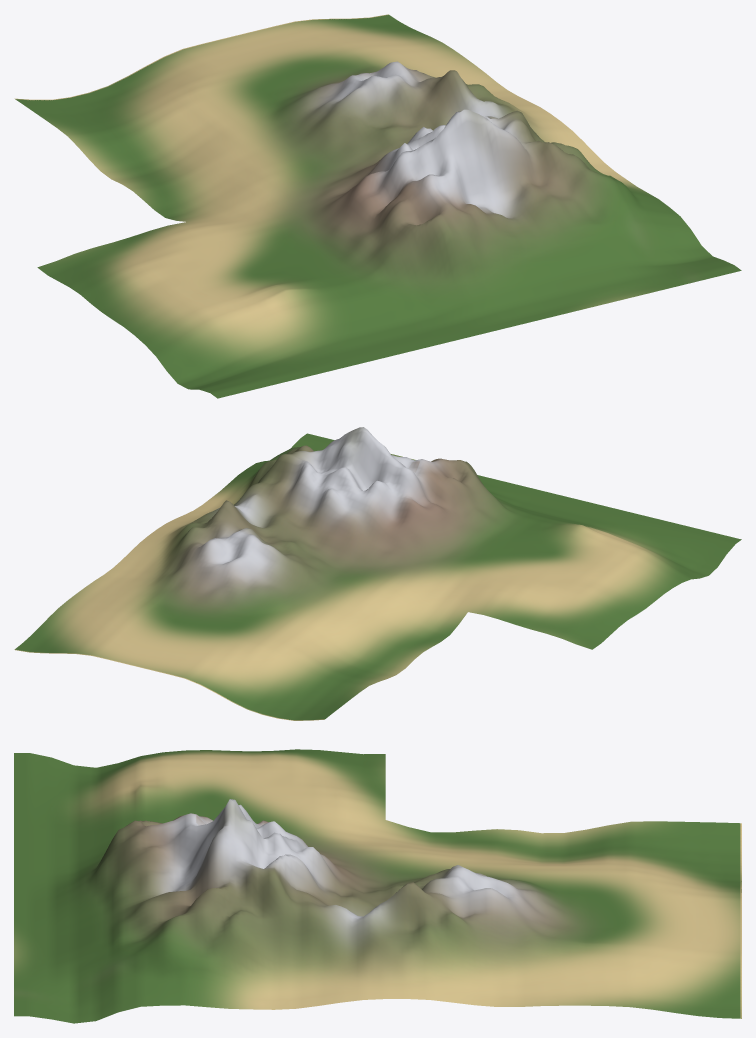
File: landscape.obj
3 renders of one model, top to bottom at view 1: azimuth 30°, elevation 25°; view 2: azimuth 150°, elevation 25°; view 3: azimuth 270°, elevation 25°, orthographic. The views are drawn at different scales.
Visible parts, largest first — view 1: os;amd_Plane; view 2: os;amd_Plane; view 3: os;amd_Plane.
Part boxes in pixels (x1=…): os;amd_Plane: x1=14, y1=14, x2=741, y2=398; os;amd_Plane: x1=14, y1=427, x2=741, y2=720; os;amd_Plane: x1=14, y1=749, x2=741, y2=1023.
Size of the model in its own units: 31.78 by 8.17 by 37.11.
